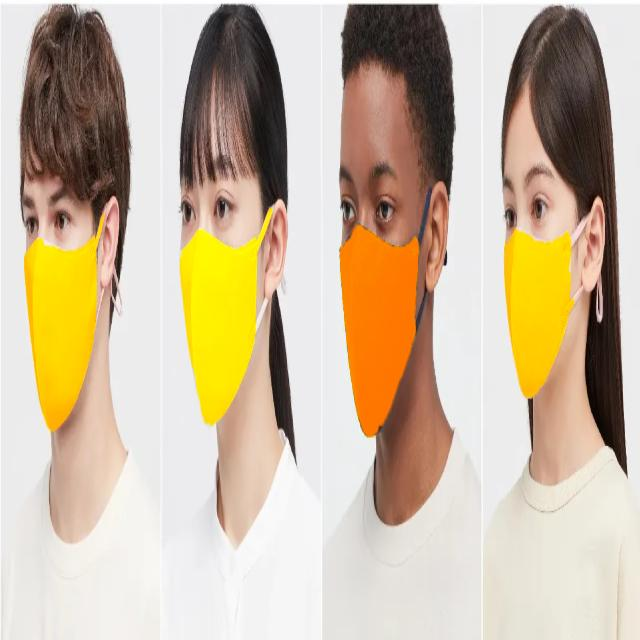mask: (498, 54, 581, 418), (178, 205, 277, 430), (23, 207, 118, 438), (338, 219, 431, 443)
